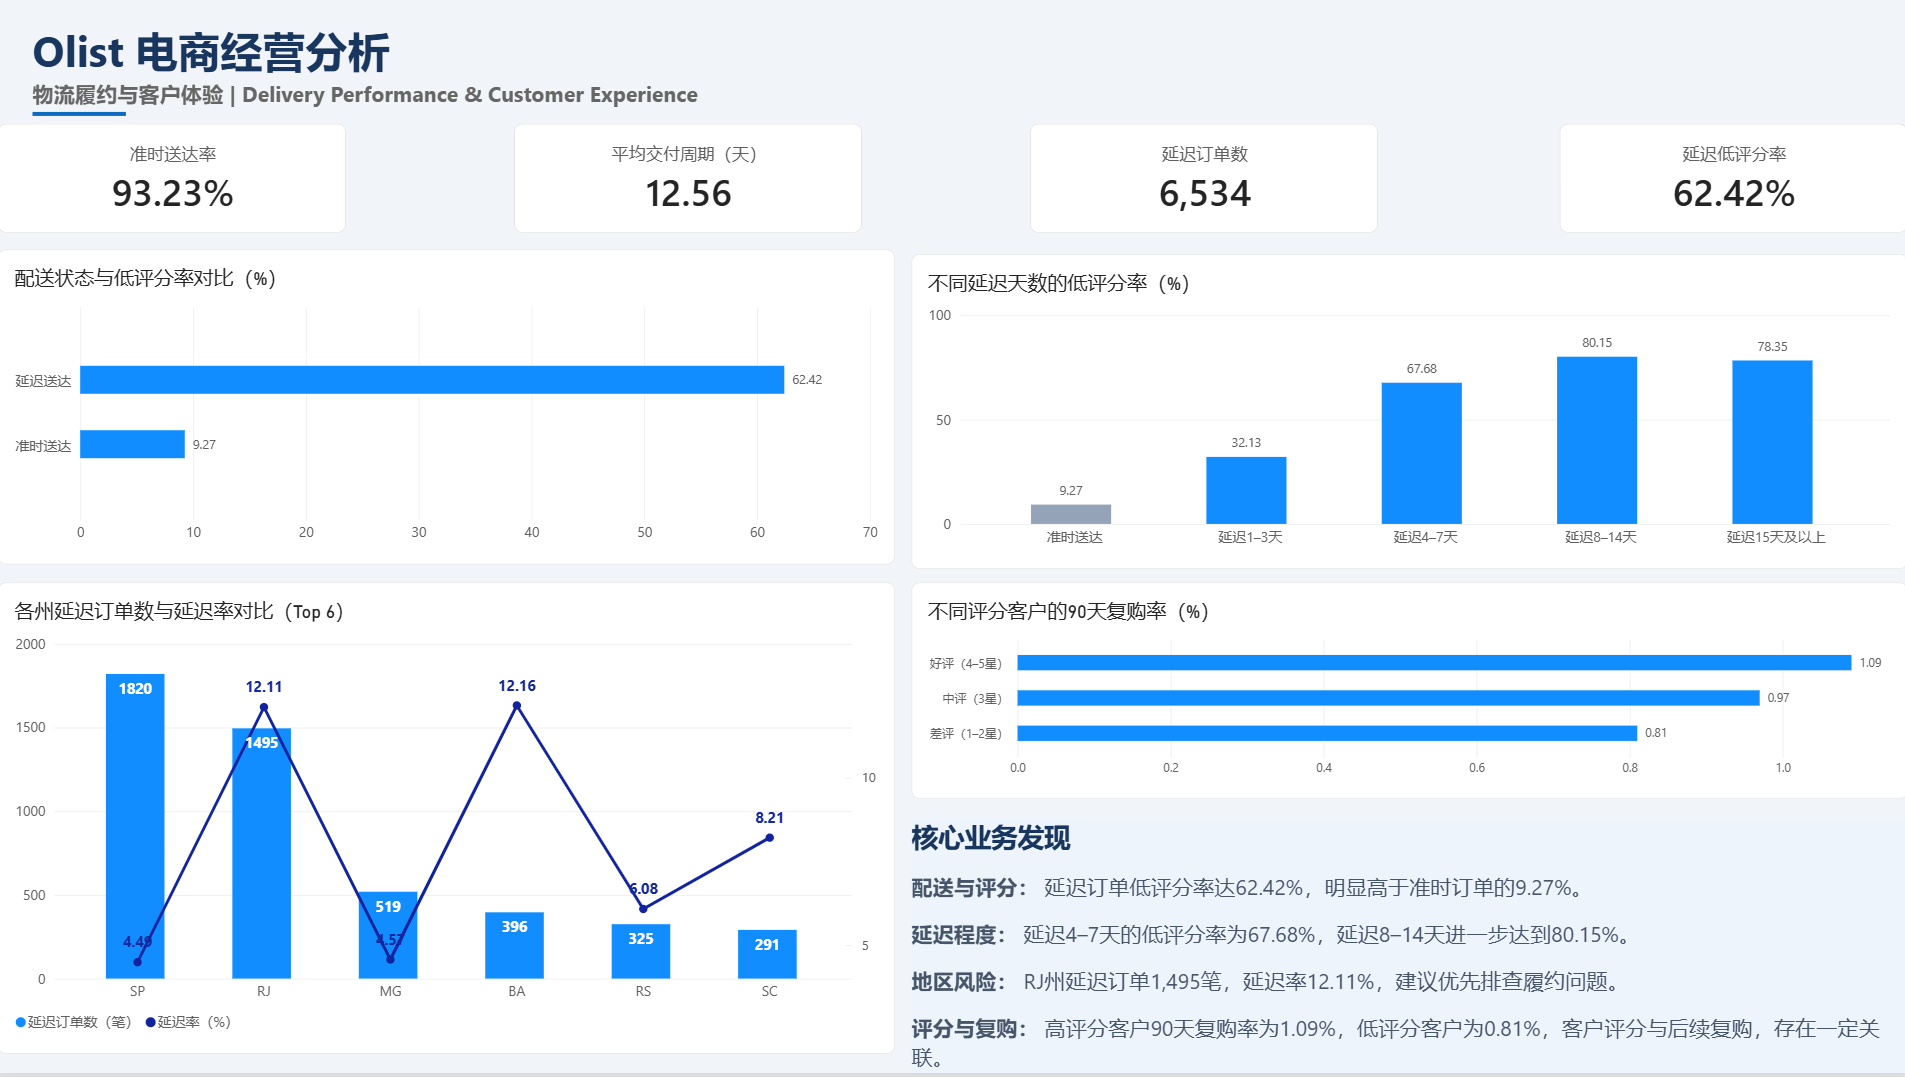

Layout of this report page (visuals, bound fields, positions):
{"tool":"powerbi","page":{"name":"02｜物流履约与客户体验","canvas":[1920,1080],"ordinal":1},"visuals":[{"type":"cardVisual","title":"商品销售金额（BRL）","fields":{"Data":["06_配送履约KPI.准时送达率_显示"]},"box":[0,125.2,350,110],"z":0},{"type":"cardVisual","title":"商品销售金额（BRL）","fields":{"Data":["Sum(06_配送履约KPI.avg_delivery_days)"]},"box":[519,125.2,350,110],"z":1000},{"type":"cardVisual","title":"商品销售金额（BRL）","fields":{"Data":["06_配送履约KPI.延迟订单数_显示"]},"box":[1038,125.2,350,110],"z":2000},{"type":"cardVisual","title":"商品销售金额（BRL）","fields":{"Data":["07_准时与延迟订单评价.延迟低评分率_显示"]},"box":[1570,125.2,350,110],"z":3000},{"type":"textbox","box":[34.8,22.6,1847.5,88.7],"z":4000},{"type":"textbox","box":[918.8,823.7,1001.7,236.9],"z":5000},{"type":"shape","box":[34.8,34.8,93.9,161.8],"z":6000},{"type":"clusteredBarChart","title":"配送状态与低评分率对比（%）","fields":{"Category":["07_准时与延迟订单评价.配送状态_中文"],"Y":["Sum(07_准时与延迟订单评价.low_score_pct)"]},"box":[0,252.6,902.2,316.8],"z":7000},{"type":"clusteredColumnChart","title":"不同延迟天数的低评分率（%）","fields":{"Category":["08_延迟天数与低评分.delay_group_cn"],"Y":["Sum(08_延迟天数与低评分.low_score_pct)"]},"box":[918.3,256.5,1001.7,316.8],"z":8000},{"type":"lineClusteredColumnComboChart","title":"各州延迟订单数与延迟率对比（Top 6）","fields":{"Category":["09_各州配送问题Top10.customer_state"],"Y":["Sum(09_各州配送问题Top10.late_orders)"],"Y2":["Sum(09_各州配送问题Top10.late_rate_pct)"]},"box":[0,586.9,902.2,473.7],"z":8001},{"type":"clusteredBarChart","title":"不同评分客户的90天复购率（%）","fields":{"Category":["10_评分与评价后90天复购.review_group_cn"],"Y":["Sum(10_评分与评价后90天复购.repeat_rate_90d_pct)"]},"box":[918.3,586.9,1001.7,217.2],"z":8002}]}

Visuals, with their boxes in screenshot pixels (x1, y1, x2, y2), scaled from the page's 1920x1080 canvas onto the 1905x1077 screenshot:
"商品销售金额（BRL）" cardVisual: 0 125 347 235
"商品销售金额（BRL）" cardVisual: 515 125 862 235
"商品销售金额（BRL）" cardVisual: 1030 125 1377 235
"商品销售金额（BRL）" cardVisual: 1558 125 1904 235
textbox: 35 23 1868 111
textbox: 912 821 1904 1058
shape: 35 35 128 196
"配送状态与低评分率对比（%）" clusteredBarChart: 0 252 895 568
"不同延迟天数的低评分率（%）" clusteredColumnChart: 911 256 1904 572
"各州延迟订单数与延迟率对比（Top 6）" lineClusteredColumnComboChart: 0 585 895 1058
"不同评分客户的90天复购率（%）" clusteredBarChart: 911 585 1904 802
